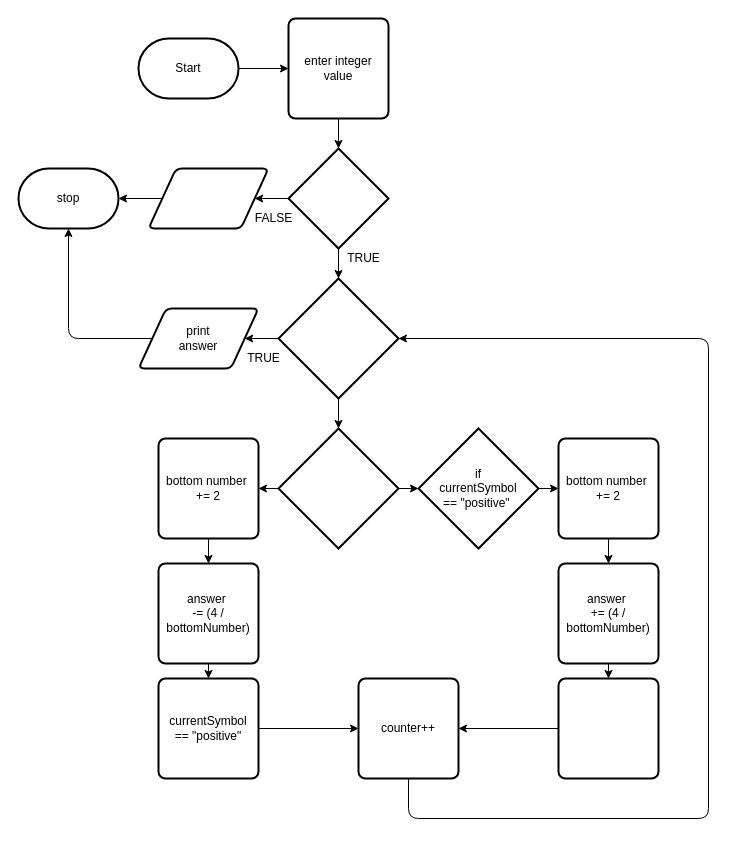
This 734x844 diagram has some shape labels left out. Each missing label, with the centre of its shape:
currentSymbol == "negative": point (608, 728)
if counter < integer: point (338, 338)
if currentSymbol == "negative": point (338, 488)
if integer > 0: point (338, 198)
print "Number must be above 0": point (208, 198)
